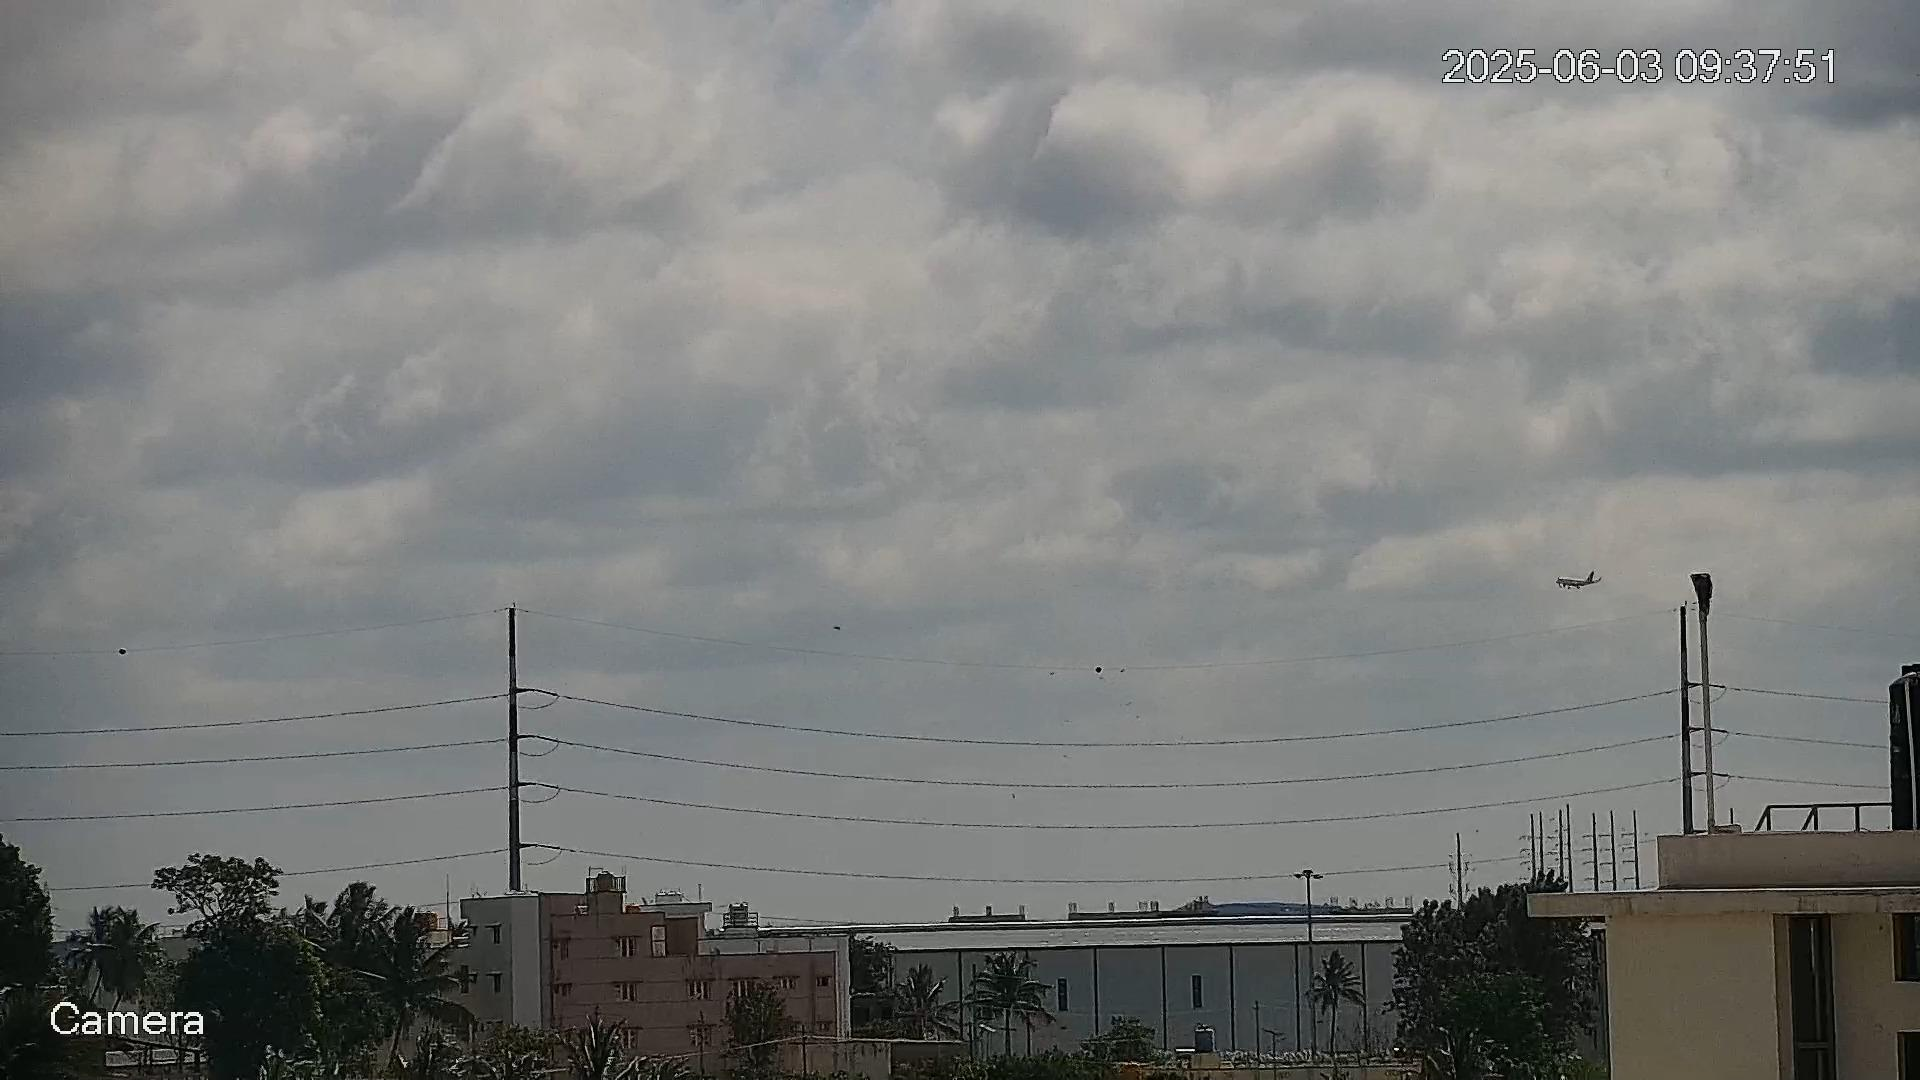Aircraft: (1555, 568, 1604, 591)
